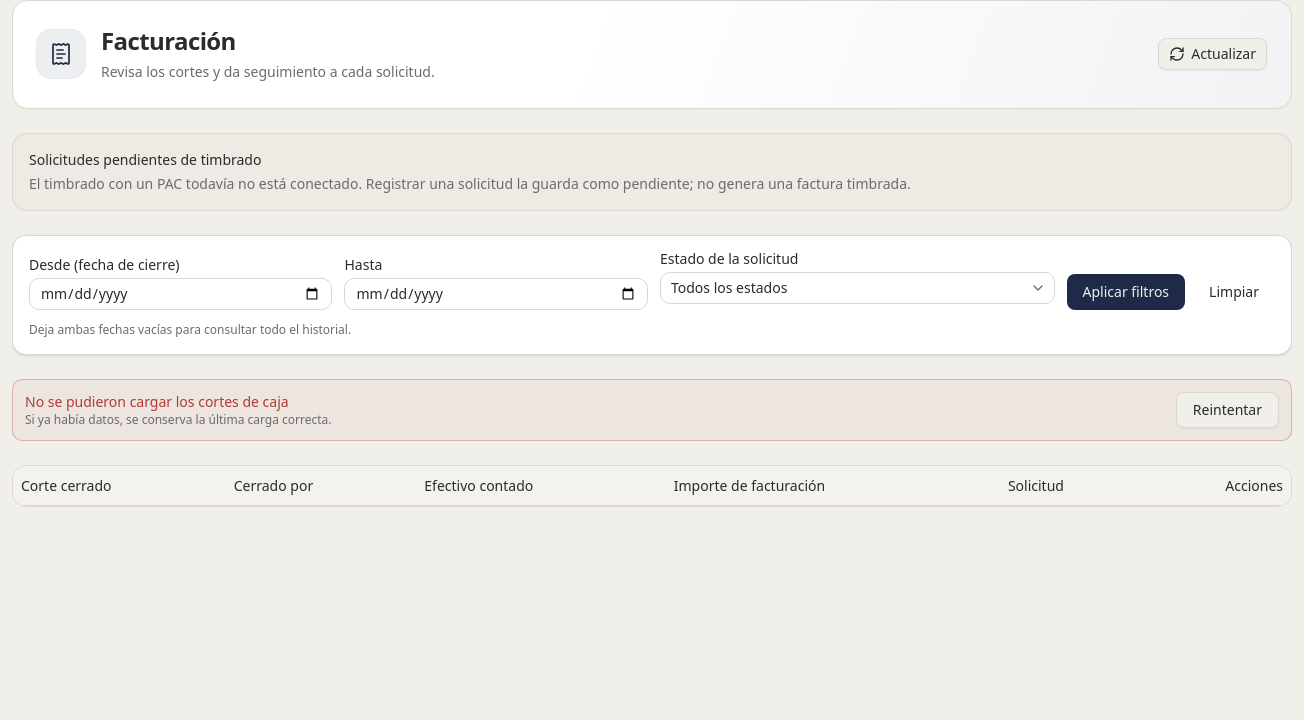
Test: un error inicial ofrece reintento sin afirmar que no hay cortes
Expected: the message is shown, [12,379,1292,441]
Click the button "Reintentar": (1227, 410) [1176,392,1279,428]
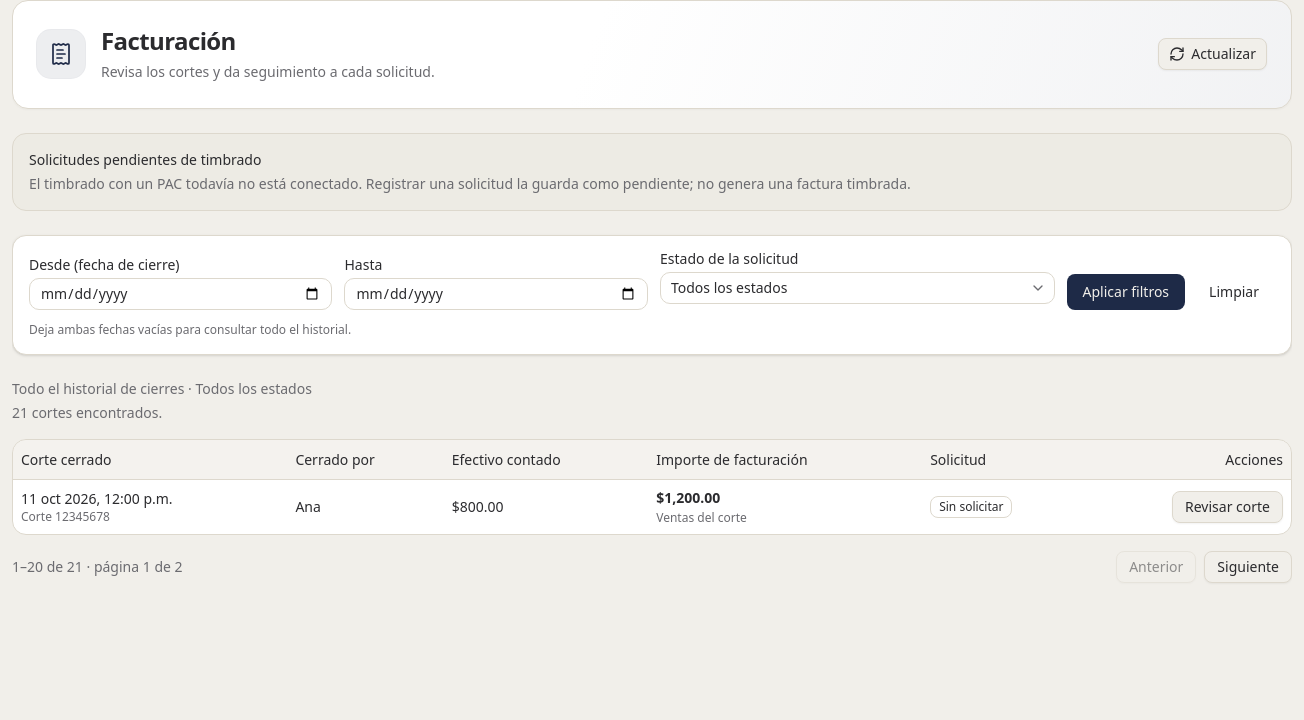
Now the text "21 cortes encontrados." is shown, box [12,403,162,422]
